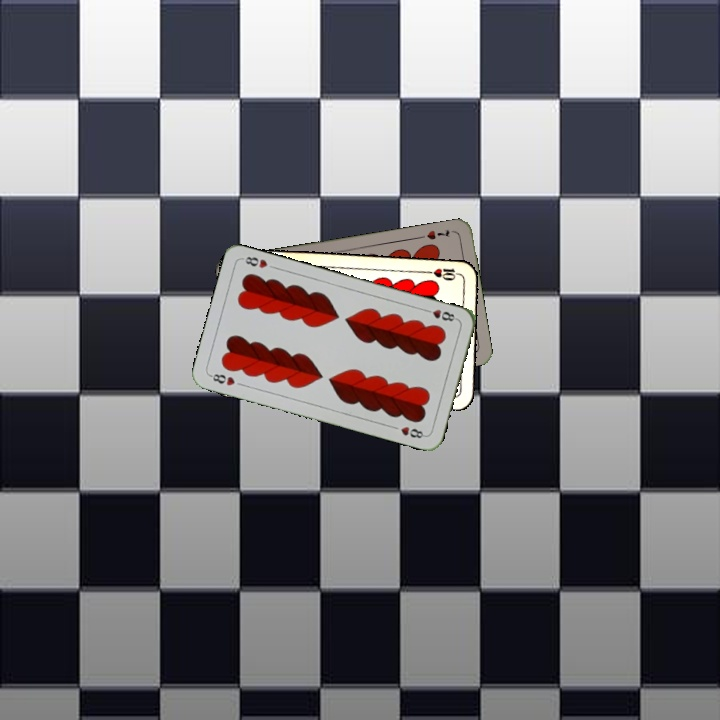H10: (423, 264, 463, 283)
H7: (423, 225, 452, 242)
H8: (420, 305, 460, 324), (206, 370, 238, 388)
